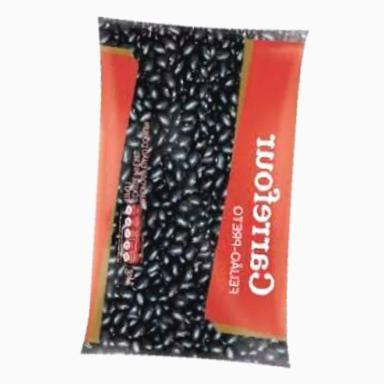beans package: (83, 19, 306, 366)
